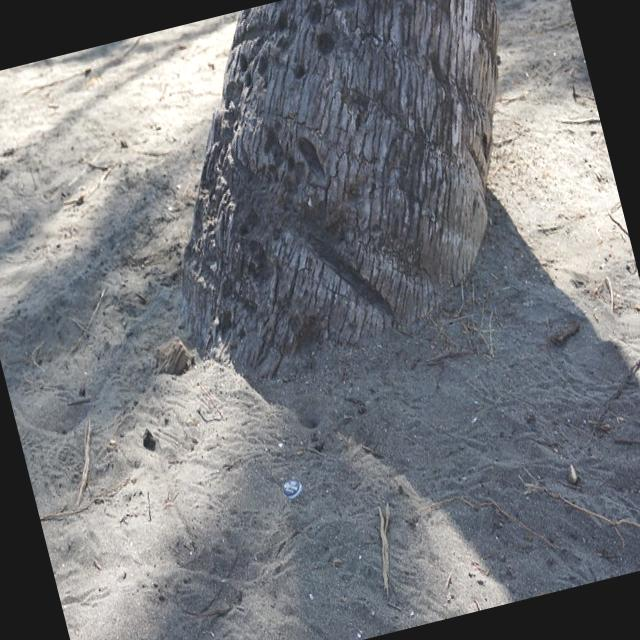Recycle: (280, 474, 304, 498)
